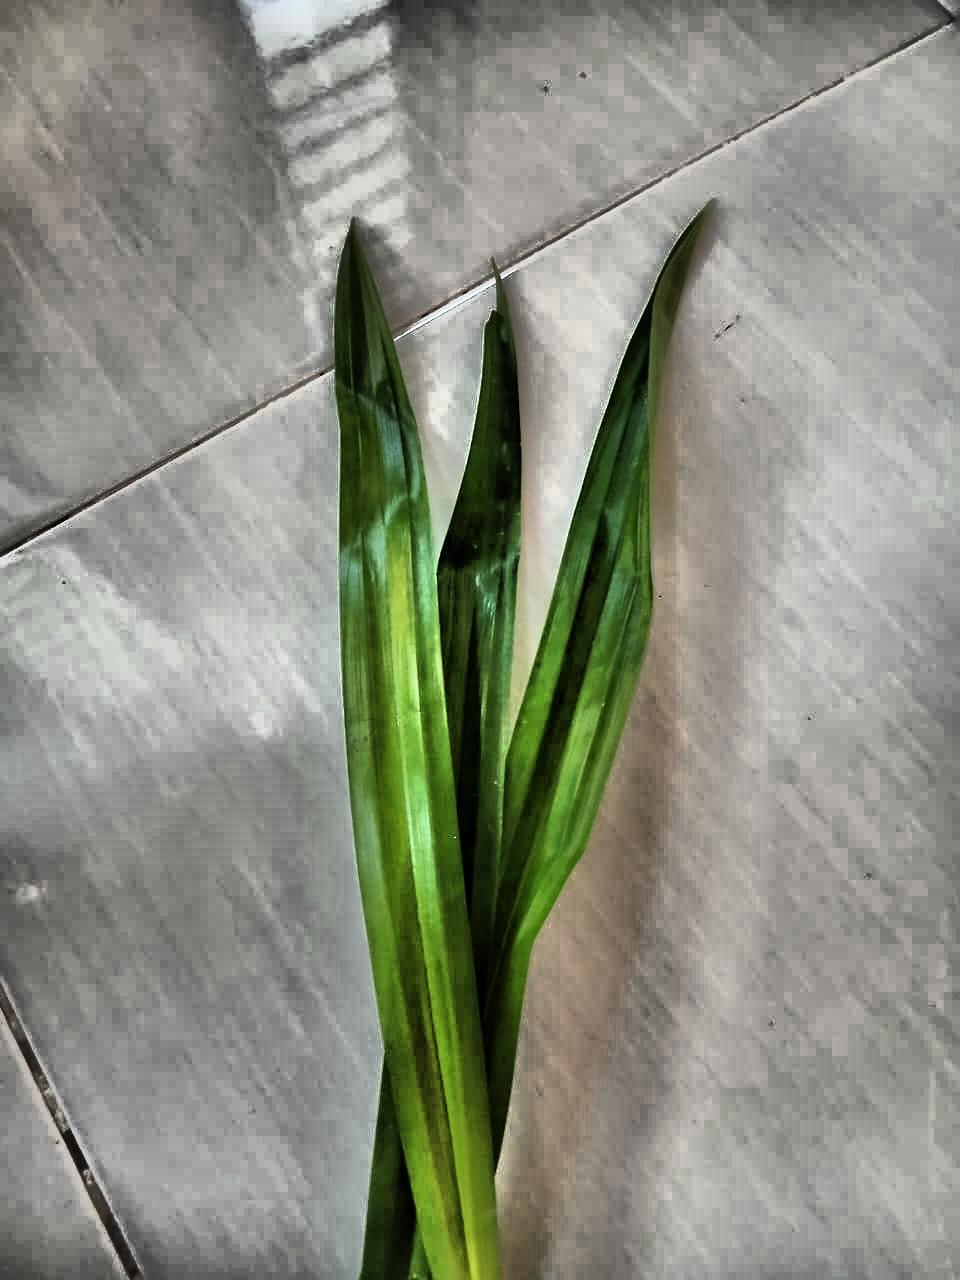daun pandan: (335, 211, 706, 1279)
